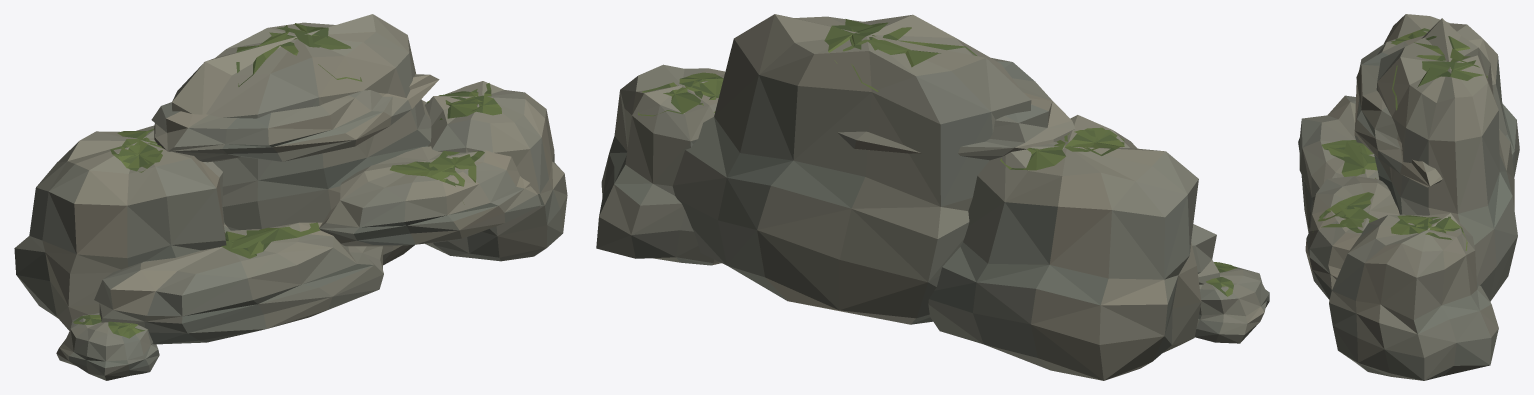
File: valley-bank-shoulder.glb
3 views of the same model, side by side, from view 1: azimuth 30°, elevation 25°; view 2: azimuth 150°, elevation 25°; view 3: azimuth 270°, elevation 25° (orthographic). The views are drawn at different scales.
Parts seen in each view (by area): view 1: bank-mineral-and-protected-moss; view 2: bank-mineral-and-protected-moss; view 3: bank-mineral-and-protected-moss.
Boxes of the visible parts, x1,y1,x2,y2 form: bank-mineral-and-protected-moss: [14, 14, 567, 380]; bank-mineral-and-protected-moss: [596, 14, 1269, 380]; bank-mineral-and-protected-moss: [1298, 14, 1519, 380].
Size of the model in its own units: 3.6 by 1.5 by 1.4.
